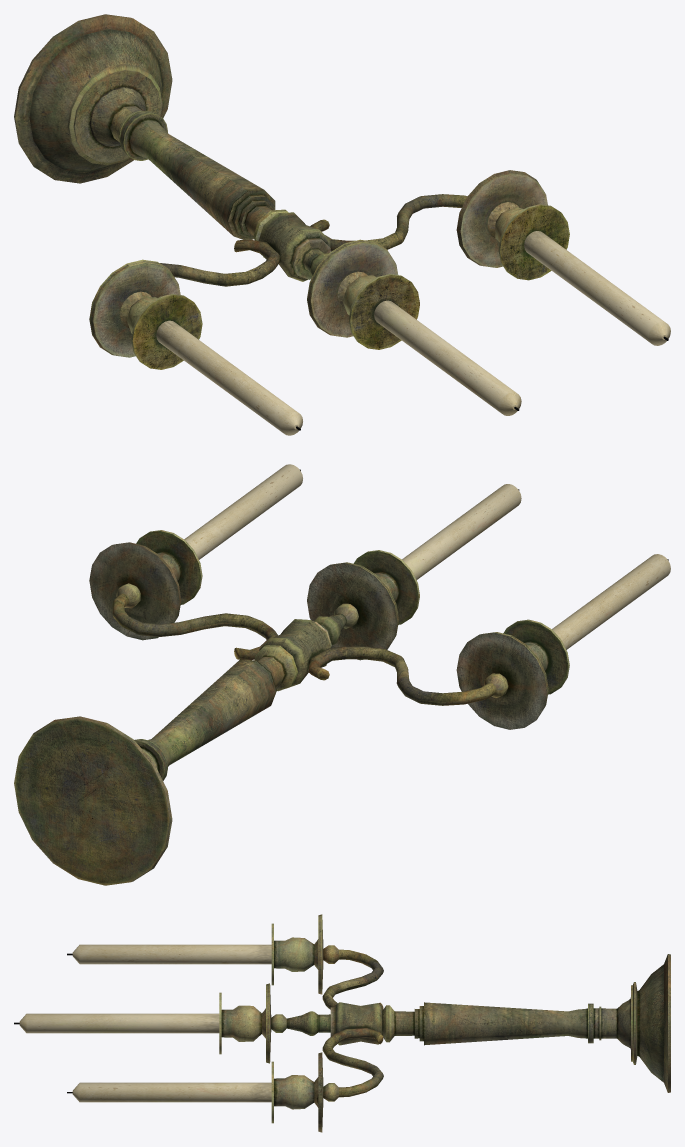
The model's file is candelabra.glb.
3 views of the same model, one above another, from view 1: azimuth 30°, elevation 25°; view 2: azimuth 150°, elevation 25°; view 3: azimuth 270°, elevation 25° (orthographic). The views are drawn at different scales.
Visible parts, largest first — view 1: Candelabra_LP; view 2: Candelabra_LP; view 3: Candelabra_LP.
Part boxes in pixels (bbox=[...]): Candelabra_LP: bbox=[14, 14, 670, 435]; Candelabra_LP: bbox=[14, 464, 670, 885]; Candelabra_LP: bbox=[14, 914, 670, 1132].
Size of the model in its own units: 46.79 by 15.82 by 75.51.
Materials: 1 (1 with a texture image).
